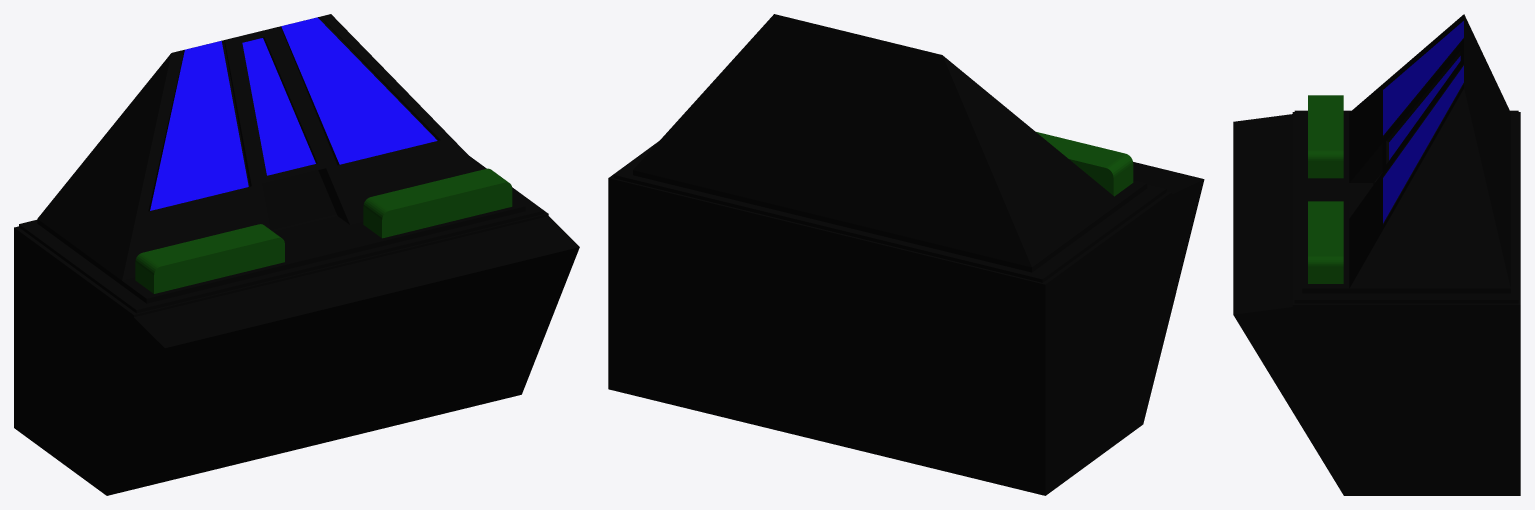
The picture shows the model from 3 angles, left to right: view 1: azimuth 30°, elevation 25°; view 2: azimuth 150°, elevation 25°; view 3: azimuth 270°, elevation 25°; orthographic projection. The views are drawn at different scales.
Parts seen in each view (by area): view 1: Cube; view 2: Cube; view 3: Cube.
Boxes of the visible parts, x1,y1,x2,y2 form: Cube: (14, 14, 579, 495); Cube: (608, 14, 1204, 495); Cube: (1233, 14, 1520, 495).
Size of the model in its own units: 2000 by 1684 by 1260.
